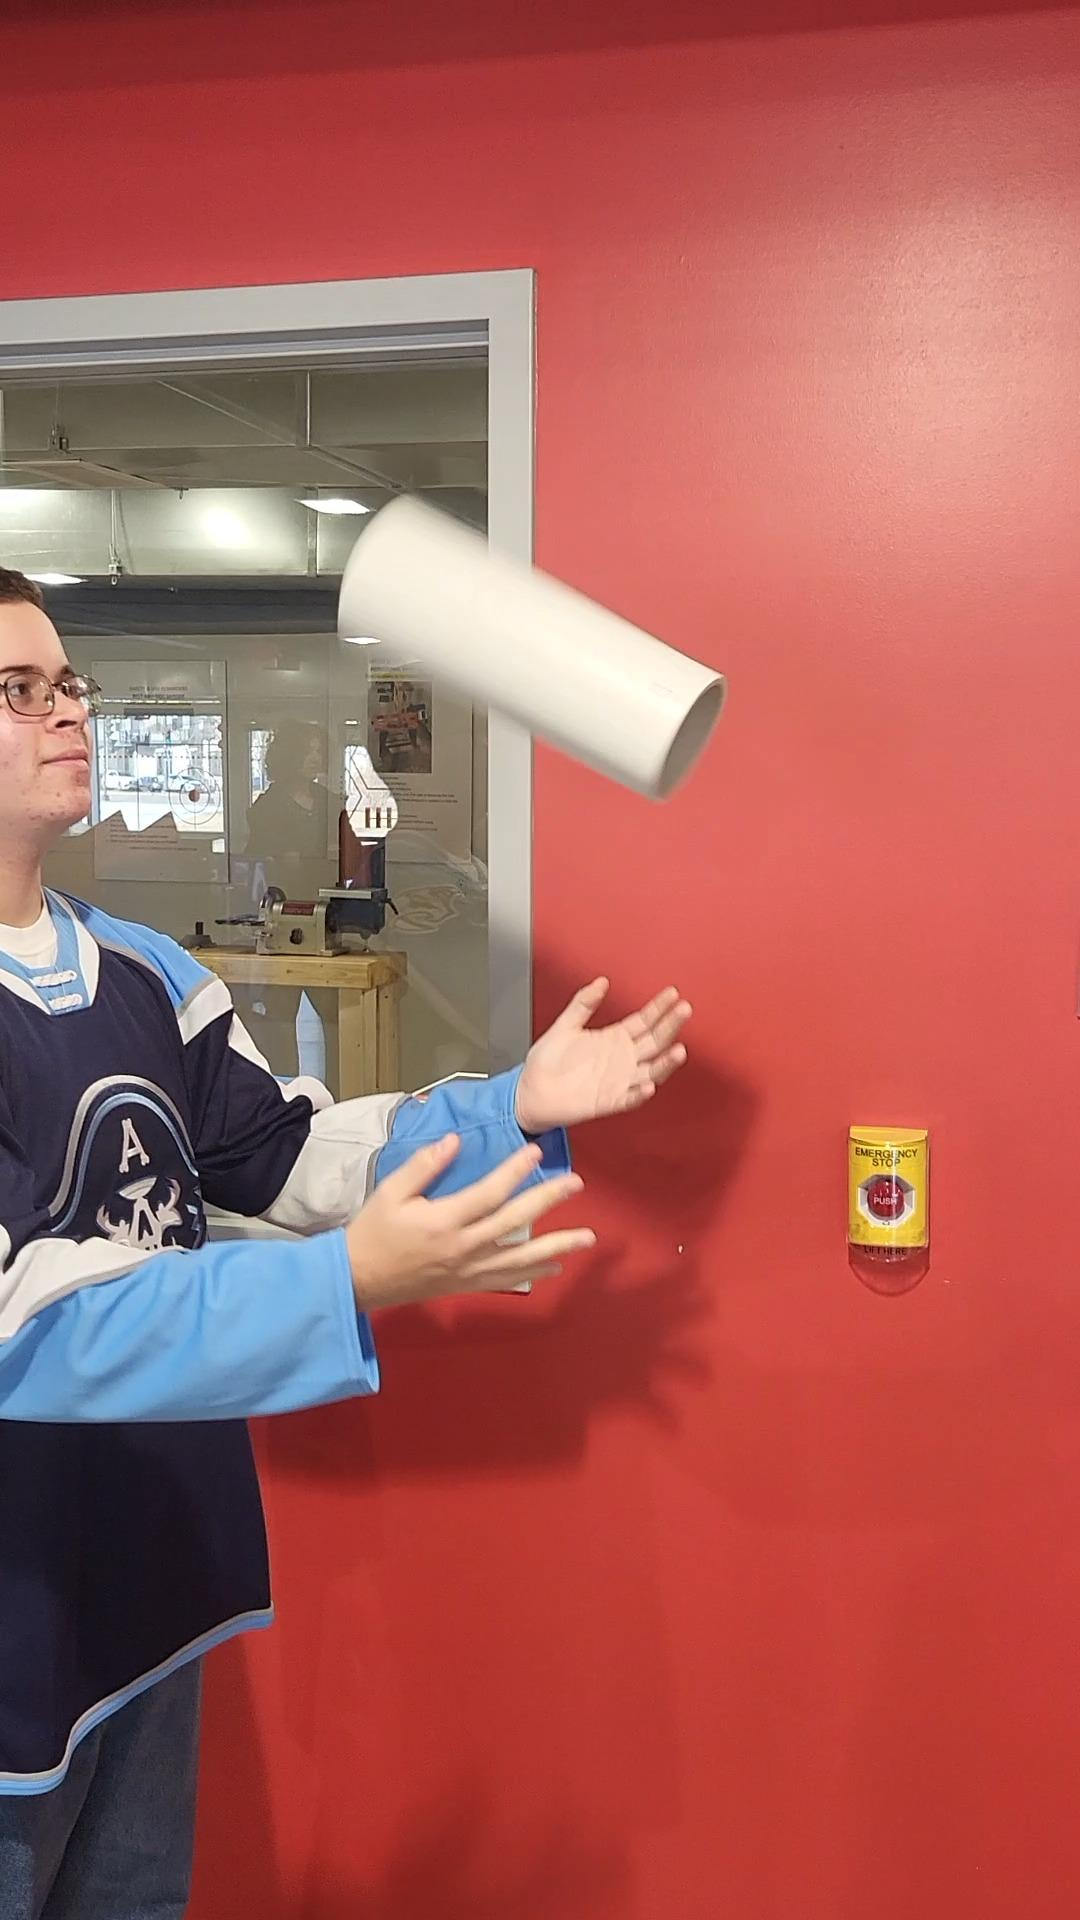coral: (340, 495, 737, 800)
